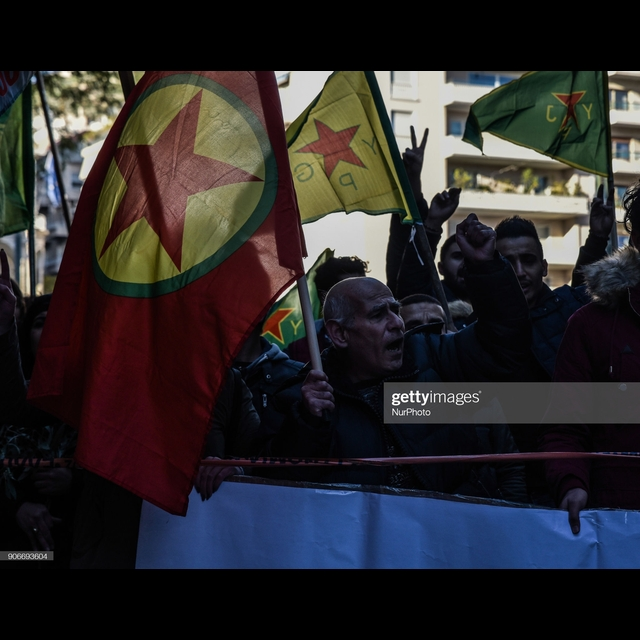PKK: (91, 73, 283, 295)
YPG: (294, 75, 391, 222)
YPJ: (453, 71, 625, 171)
ZI: (403, 114, 435, 176)
